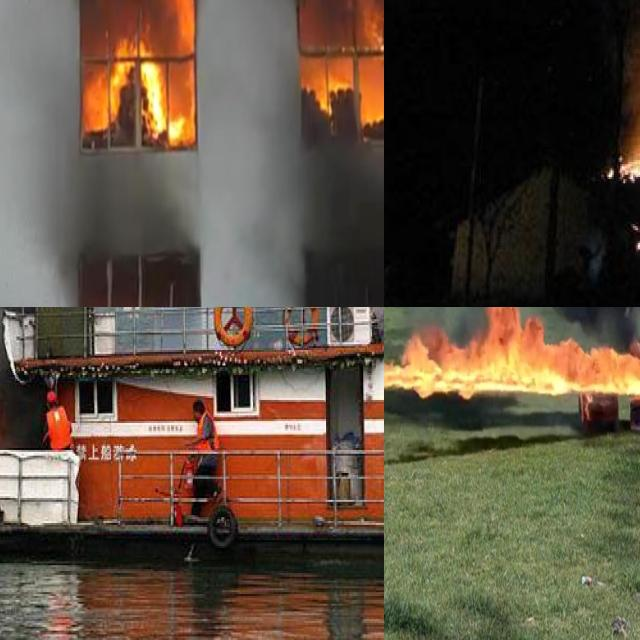fire: (384, 307, 640, 441), (81, 0, 197, 155), (83, 33, 197, 145), (298, 0, 384, 128), (605, 134, 640, 179), (42, 392, 70, 448)
